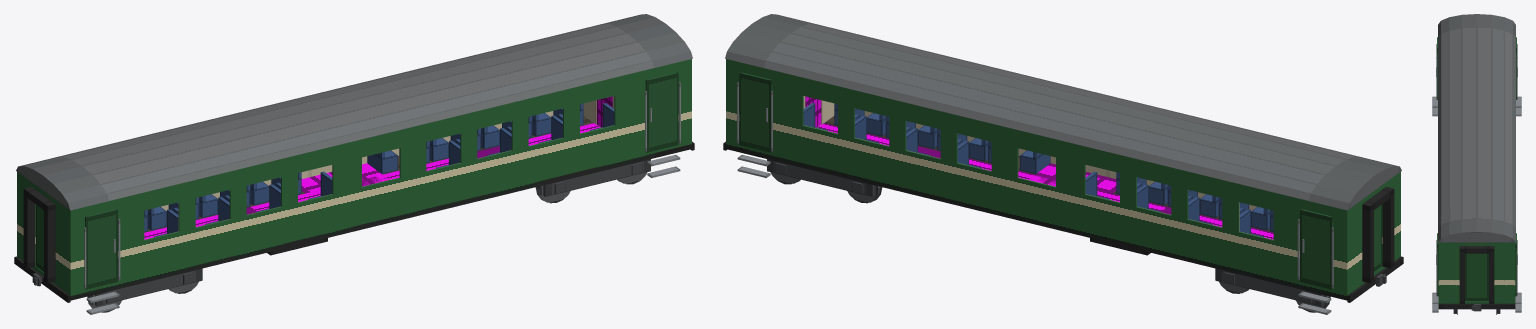
File: coach.obj
The picture shows the model from 3 angles, left to right: view 1: azimuth 30°, elevation 25°; view 2: azimuth 150°, elevation 25°; view 3: azimuth 270°, elevation 25°; orthographic projection. The views are drawn at different scales.
Parts seen in each view (by area): view 1: BODY_SIDES, ROOF, INTERIOR_SEATS_LCG_IL, UNDERFRAME, BODY_ENDS, DOOR_3_TL_-0.95_X, DOOR_1_TL_0.95_X, GANGWAY_BELLOWS, GUIDE_FLOOR_1, STEPS, BOGEY_REAR, BOGEY_FRONT (+3 smaller); view 2: BODY_SIDES, ROOF, INTERIOR_SEATS_LCG_IL, UNDERFRAME, BODY_ENDS, DOOR_4_TL_-0.95_X, DOOR_2_TL_0.95_X, GANGWAY_BELLOWS, GUIDE_FLOOR_1, STEPS, BOGEY_REAR, BOGEY_FRONT (+3 smaller); view 3: ROOF, BODY_ENDS, DOOR_6_LEAF, STEPS, GANGWAY_BELLOWS, UNDERFRAME, BODY_SIDES, DOOR_3_TL_-0.95_X, DOOR_4_TL_-0.95_X.
Part boxes in pixels (box(x1,y1,x2,y2)): BODY_SIDES: box(17, 59, 691, 298); ROOF: box(16, 14, 692, 210); INTERIOR_SEATS_LCG_IL: box(144, 103, 614, 237); UNDERFRAME: box(14, 141, 694, 302); BODY_ENDS: box(17, 59, 691, 298); DOOR_3_TL_-0.95_X: box(645, 72, 678, 152); DOOR_1_TL_0.95_X: box(85, 209, 117, 289); GANGWAY_BELLOWS: box(23, 187, 55, 283); GUIDE_FLOOR_1: box(144, 123, 599, 239); STEPS: box(84, 82, 680, 314); BOGEY_REAR: box(543, 159, 650, 196); BOGEY_FRONT: box(95, 268, 202, 306); BODY_SIDES: box(726, 59, 1400, 298); ROOF: box(725, 14, 1401, 210); INTERIOR_SEATS_LCG_IL: box(803, 103, 1273, 237); UNDERFRAME: box(723, 141, 1403, 302); BODY_ENDS: box(726, 64, 1399, 298); DOOR_4_TL_-0.95_X: box(739, 72, 772, 152); DOOR_2_TL_0.95_X: box(1300, 209, 1332, 289); GANGWAY_BELLOWS: box(1362, 187, 1394, 283); GUIDE_FLOOR_1: box(818, 123, 1273, 239); STEPS: box(737, 82, 1333, 314); BOGEY_REAR: box(767, 159, 874, 196); BOGEY_FRONT: box(1215, 268, 1322, 306); ROOF: box(1438, 14, 1515, 242); BODY_ENDS: box(1438, 242, 1515, 303); DOOR_6_LEAF: box(1465, 253, 1488, 300); STEPS: box(1432, 44, 1521, 312); GANGWAY_BELLOWS: box(1459, 246, 1494, 303); UNDERFRAME: box(1438, 303, 1515, 309); BODY_SIDES: box(1438, 242, 1515, 303); DOOR_3_TL_-0.95_X: box(1437, 233, 1438, 296); DOOR_4_TL_-0.95_X: box(1515, 233, 1516, 296).
Size of what is drawn, in the model's own units: 20.04 by 4.11 by 3.36.
Materials: 15 (15 with a texture image).
